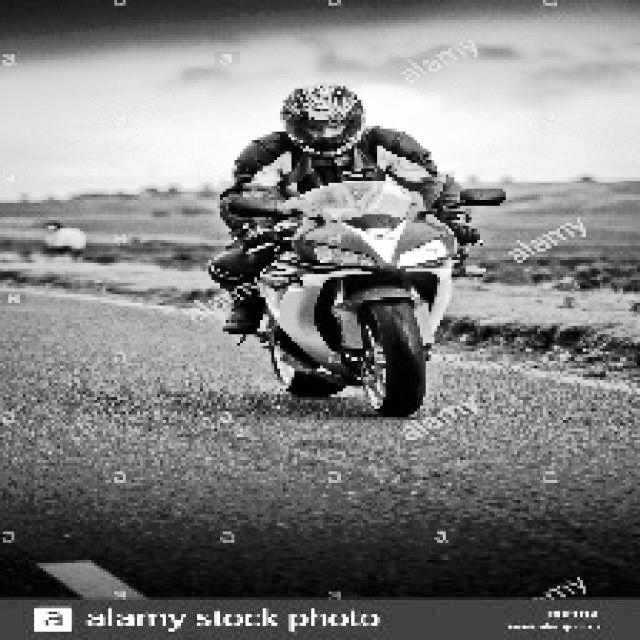Bike: (228, 192, 458, 419)
